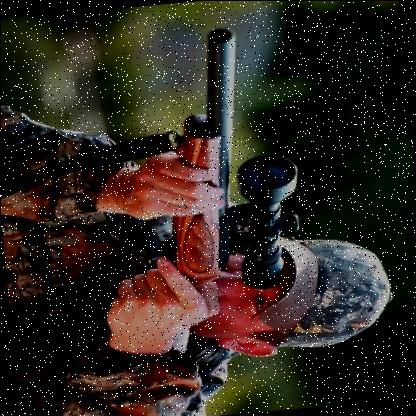rifle: (93, 22, 318, 317)
